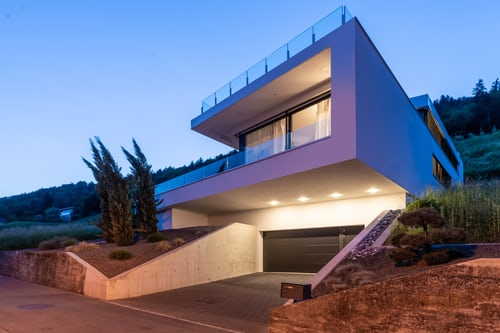house: (155, 35, 480, 232)
